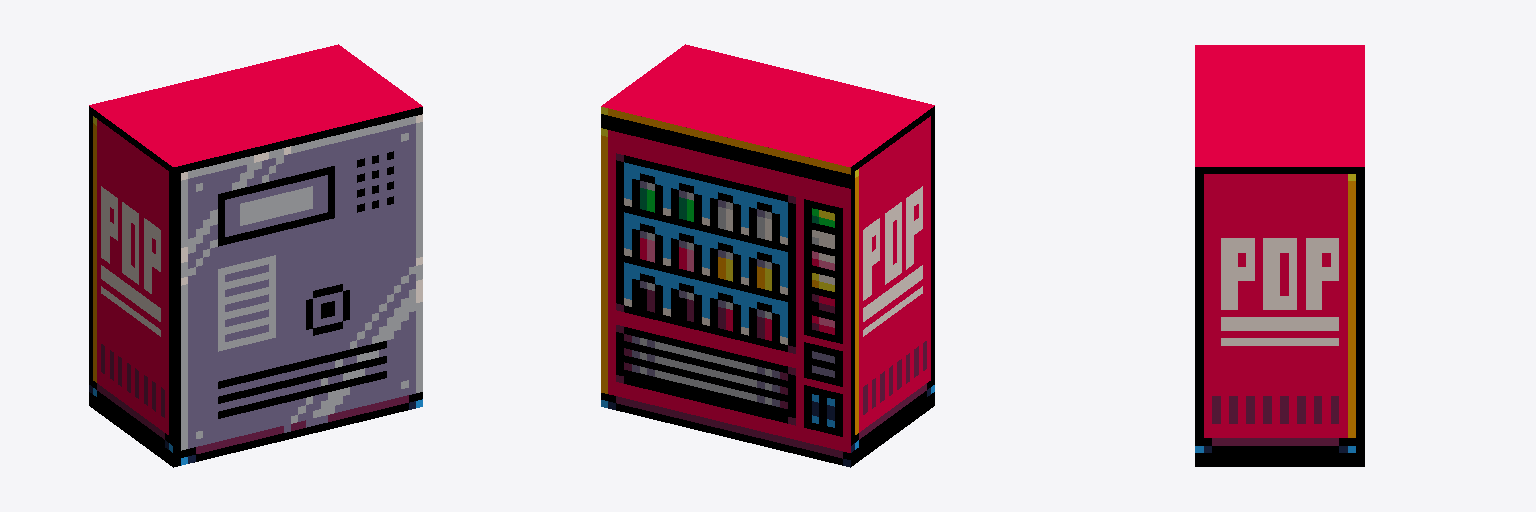
3 views of the same model, side by side, from view 1: azimuth 30°, elevation 25°; view 2: azimuth 150°, elevation 25°; view 3: azimuth 270°, elevation 25° (orthographic).
Parts seen in each view (by area): view 1: jidouhanbaiki; view 2: jidouhanbaiki; view 3: jidouhanbaiki.
Boxes of the visible parts, x1=… form: jidouhanbaiki: x1=89, y1=44, x2=422, y2=467; jidouhanbaiki: x1=601, y1=44, x2=934, y2=467; jidouhanbaiki: x1=1195, y1=45, x2=1364, y2=466.
Bounding box in the file's own units: 8.5 × 9.75 × 5.
1 materials, 1 textured.